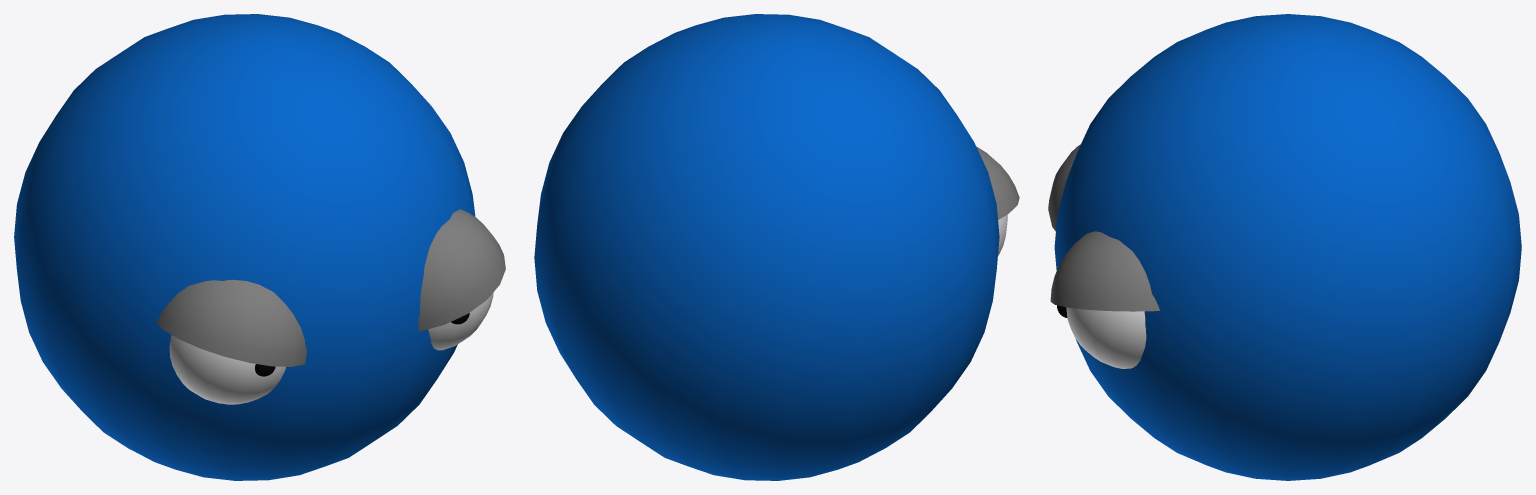
File: Enemy_Type_04.fbx
3 renders of one model, left to right at view 1: azimuth 30°, elevation 25°; view 2: azimuth 150°, elevation 25°; view 3: azimuth 270°, elevation 25°, orthographic.
Visible parts, largest first — view 1: pSphere1, polySurface1, polySurface6; view 2: pSphere1, polySurface1; view 3: pSphere1, polySurface6, polySurface1.
Boxes of the visible parts, bbox=[...] form: pSphere1: bbox=[14, 14, 475, 480]; polySurface1: bbox=[156, 279, 306, 404]; polySurface6: bbox=[418, 209, 505, 350]; pSphere1: bbox=[534, 14, 999, 480]; polySurface1: bbox=[976, 146, 1019, 255]; pSphere1: bbox=[1054, 14, 1521, 480]; polySurface6: bbox=[1050, 231, 1159, 368]; polySurface1: bbox=[1048, 144, 1080, 231].
Bounding box in the file's own units: 13.23 × 13.23 × 13.41.
